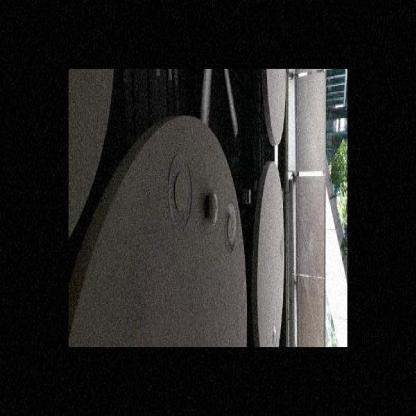light_off: (166, 142, 194, 238), (221, 189, 238, 255)
